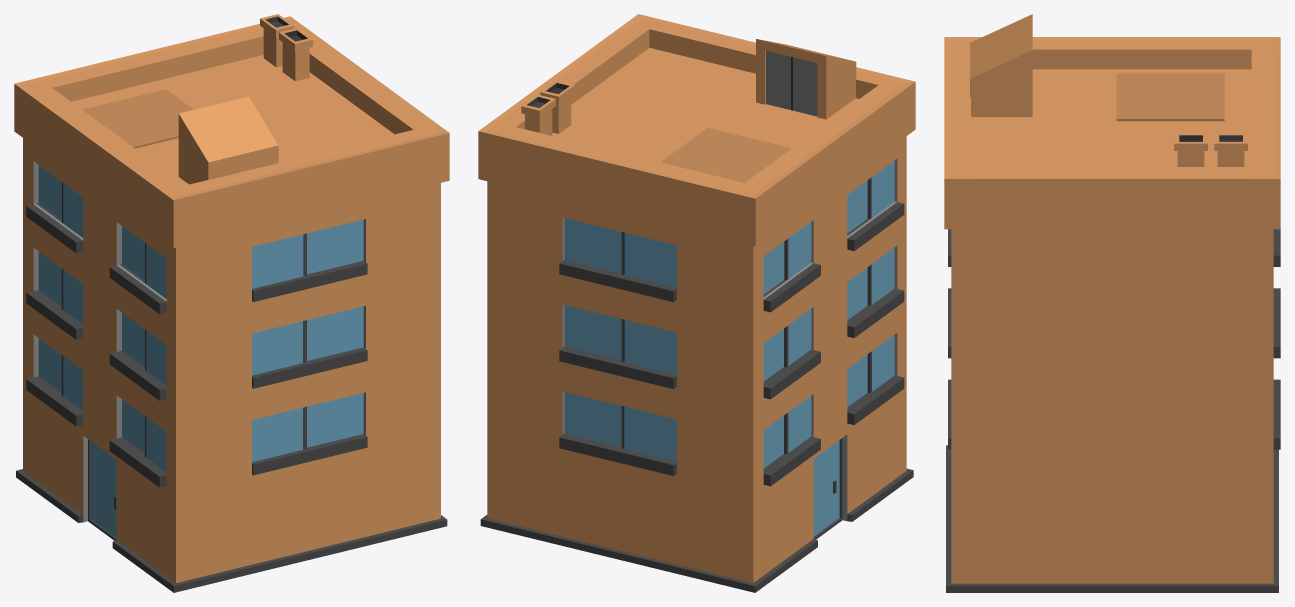
File: predio1.fbx
3 renders of one model, left to right at view 1: azimuth 30°, elevation 25°; view 2: azimuth 150°, elevation 25°; view 3: azimuth 270°, elevation 25°, orthographic. The views are drawn at different scales.
Parts seen in each view (by area): view 1: Cube.055; view 2: Cube.055; view 3: Cube.055.
Part boxes in pixels (bbox=[...]): Cube.055: bbox=[14, 14, 449, 592]; Cube.055: bbox=[478, 14, 915, 592]; Cube.055: bbox=[944, 14, 1280, 592].
Bounding box in the file's own units: 57.78 × 87.2 × 57.5.
